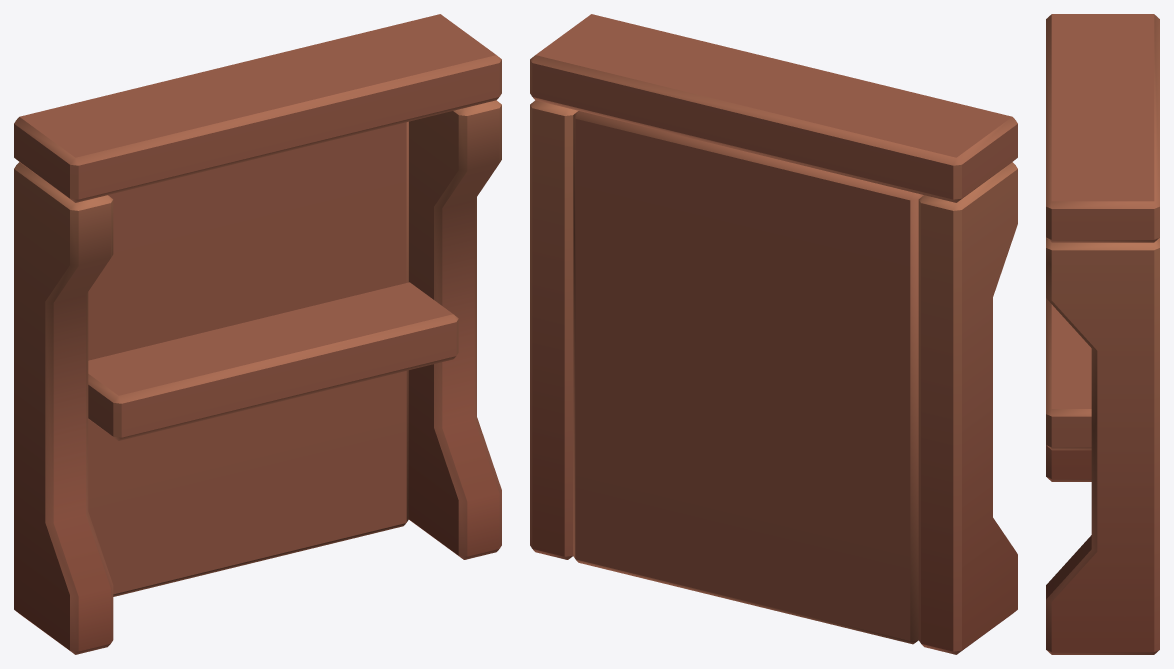
File: bartop_A_medium.glb
3 renders of one model, left to right at view 1: azimuth 30°, elevation 25°; view 2: azimuth 150°, elevation 25°; view 3: azimuth 270°, elevation 25°, orthographic. The views are drawn at different scales.
Parts seen in each view (by area): view 1: bartop_A_medium; view 2: bartop_A_medium; view 3: bartop_A_medium.
Part boxes in pixels (x1,y1,x2,y2): bartop_A_medium: (14, 14, 501, 654); bartop_A_medium: (530, 14, 1017, 654); bartop_A_medium: (1046, 14, 1159, 654).
Size of the model in its own units: 2 by 2.2 by 0.5.
1 material, 1 textured.
